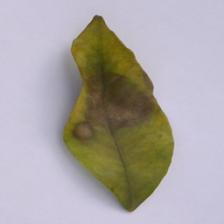black spot: (58, 67, 166, 135)
